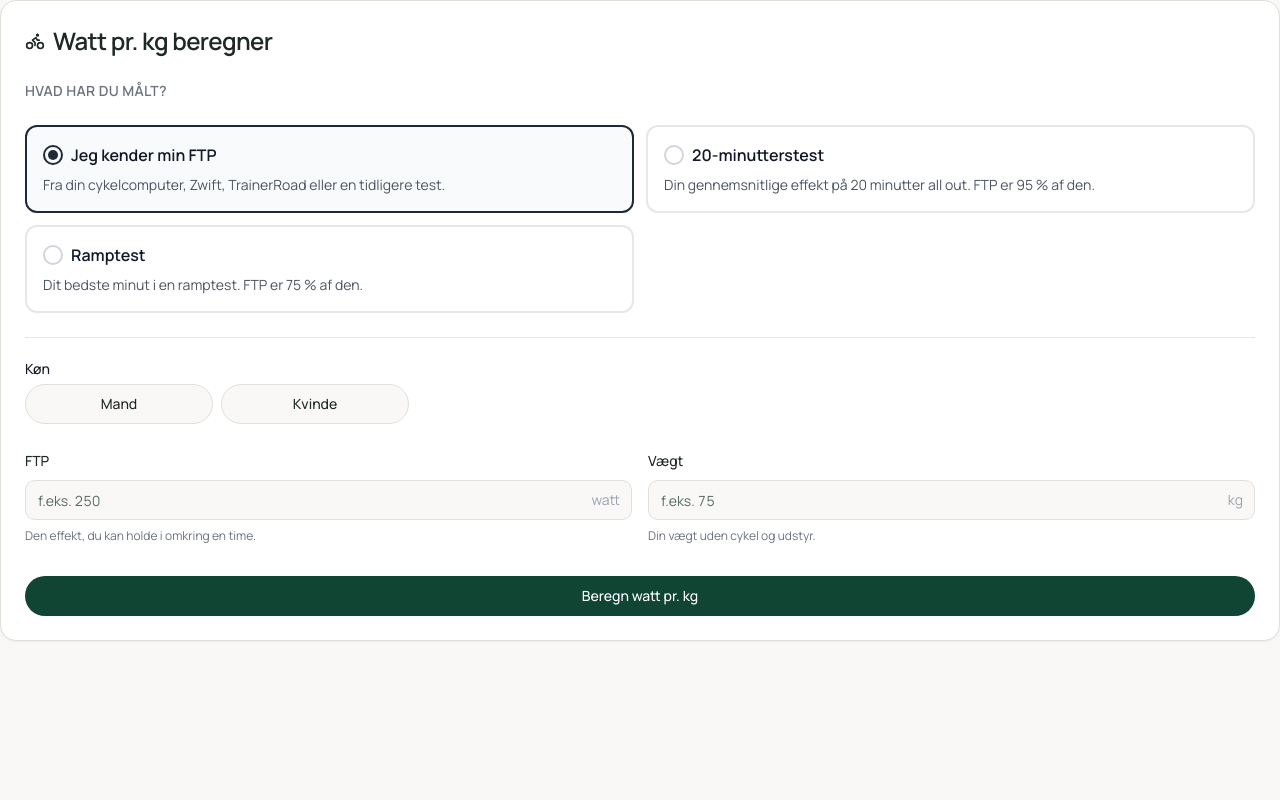
Test: WattPerKgCalculator › shows W/kg, the level and how far it is to the next one
The width and height of the screenshot is (1280, 800).
Click the button "Mand": (119, 404) [25,384,213,424]
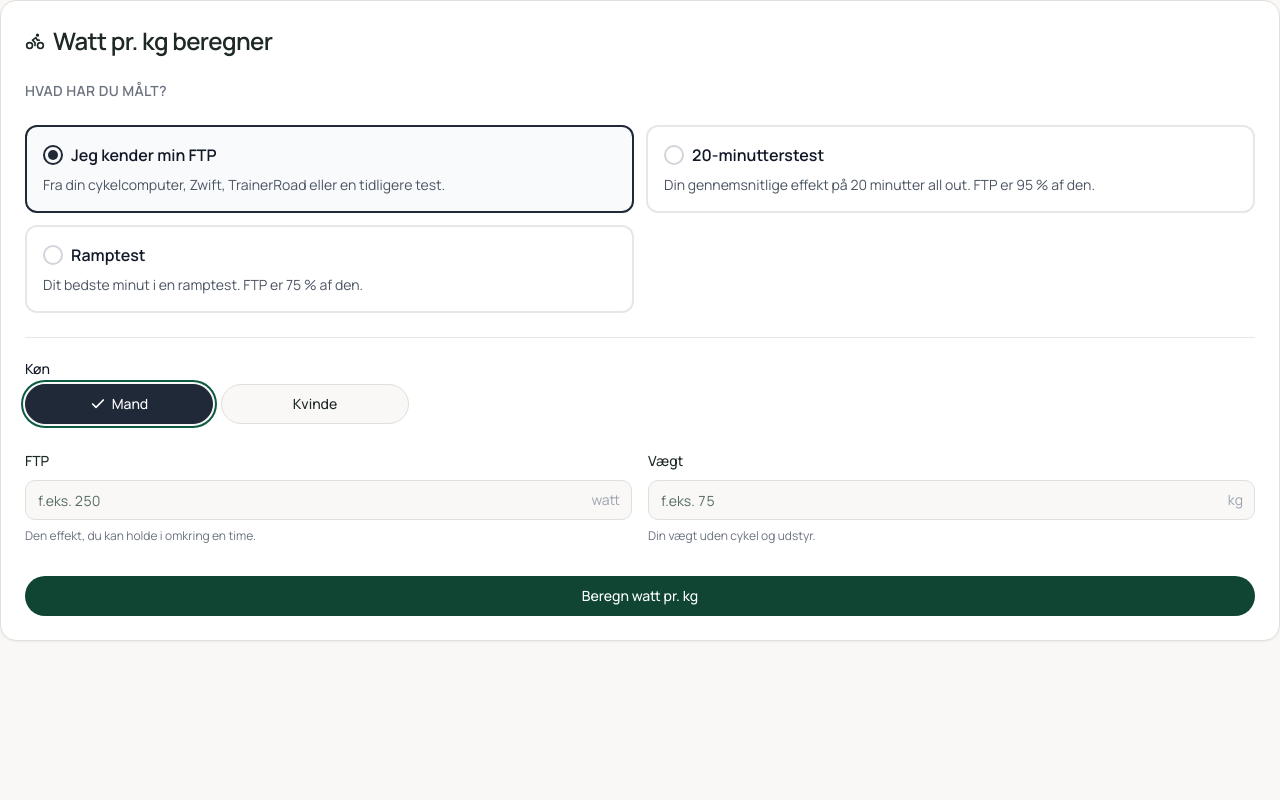
In the field labelled "FTP": (328, 500) [25,480,632,520], type "250"
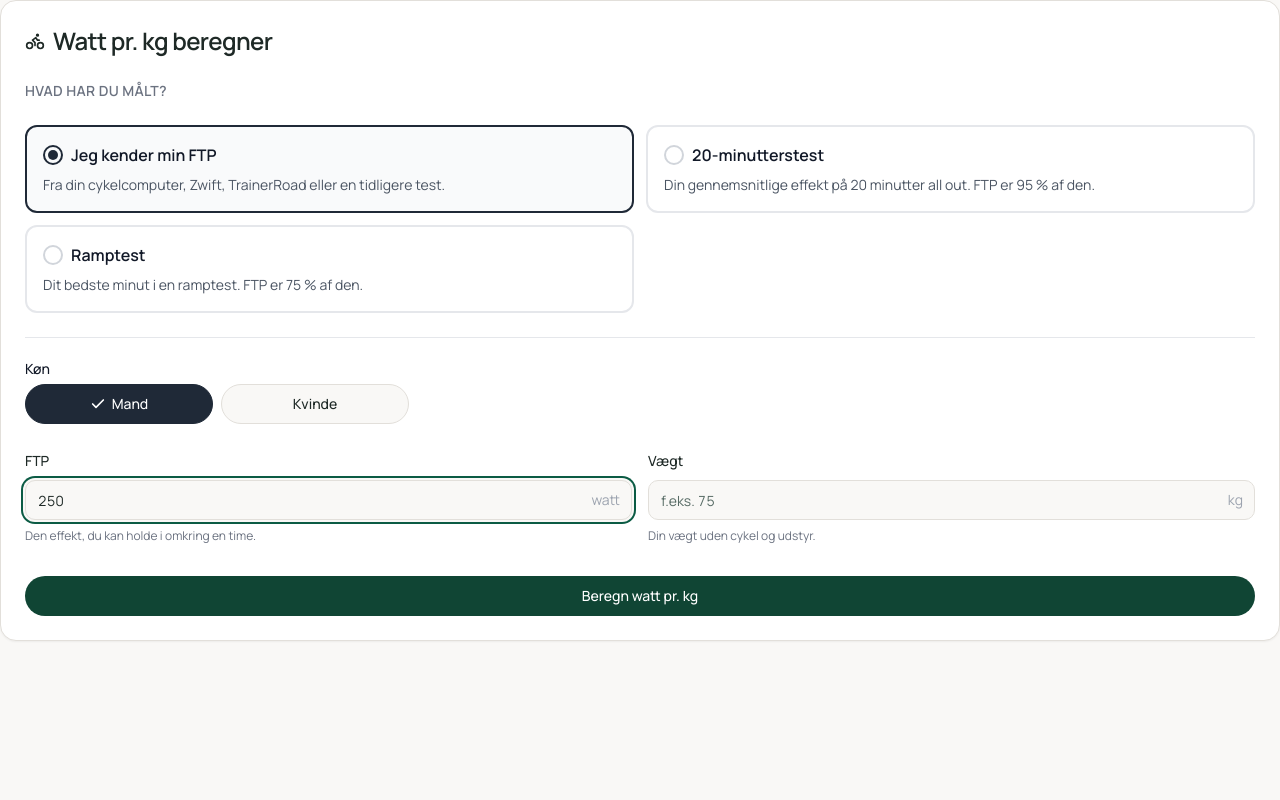
In the field labelled "Vægt": (952, 500) [648,480,1255,520], type "75"
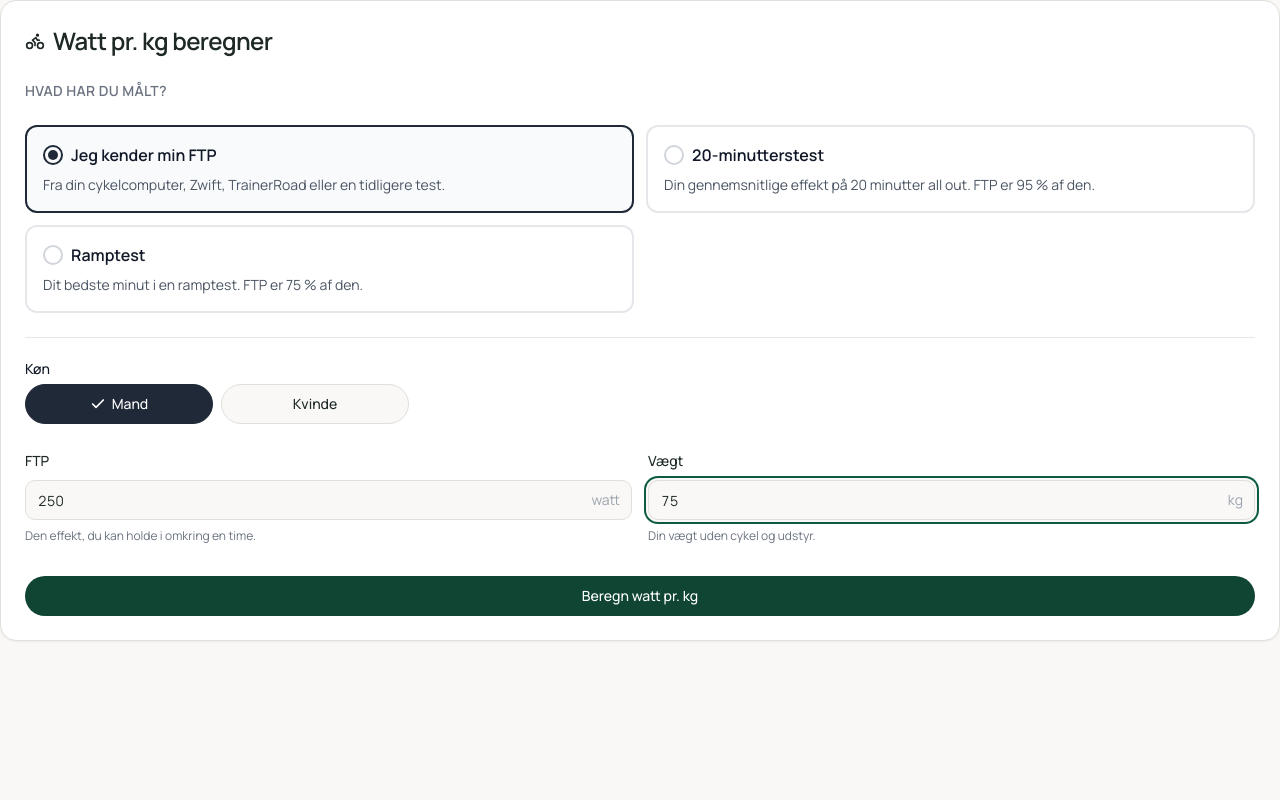
Click the button "Beregn watt pr. kg": (640, 596) [25,576,1255,616]
(page scrolled)
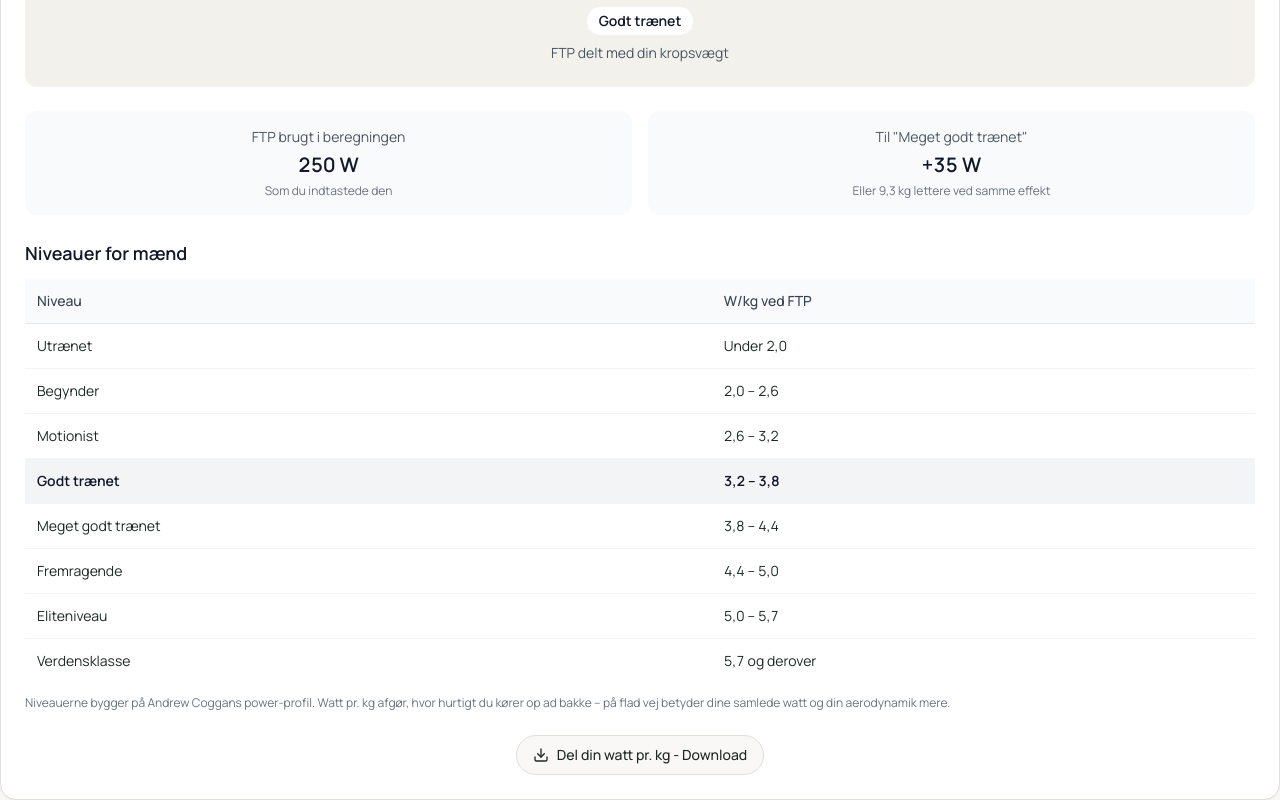
Now the text "Godt trænet" is shown, box [587,7,693,35]
Now the text "+35 W" is shown, box [922,151,981,178]
Now the heading "Niveauer for mænd" is shown, box [25,241,187,265]
